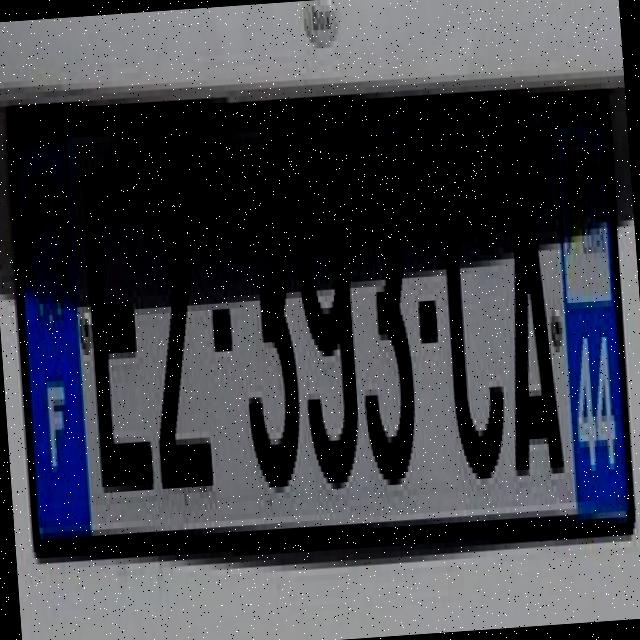EU: (3, 57, 640, 590)
France: (9, 116, 95, 540)
